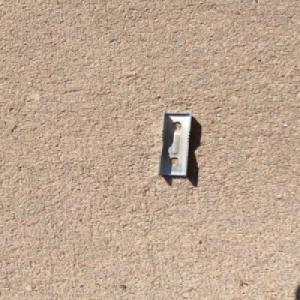ClampPart: (156, 109, 194, 178)
